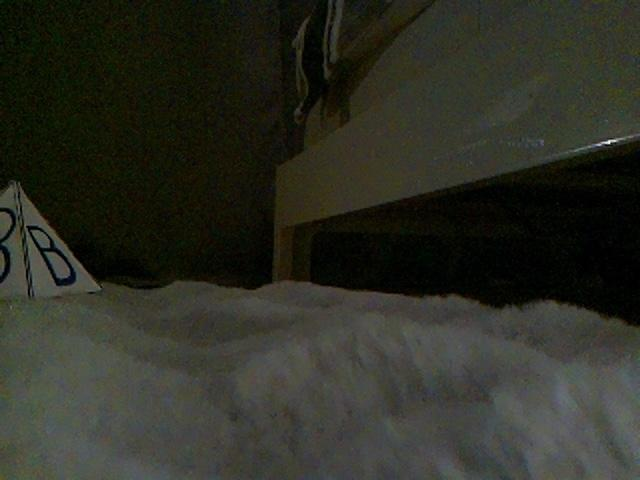B: (0, 183, 106, 301)
